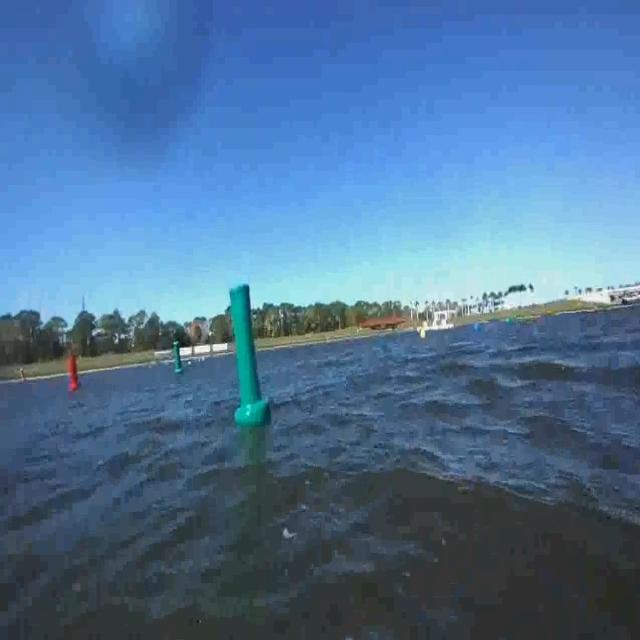blue-buoy: (473, 321, 480, 334)
green-column-buoy: (226, 276, 268, 427), (173, 343, 184, 374)
red-column-buoy: (69, 353, 80, 389)
yellow-buoy: (419, 327, 426, 340)
